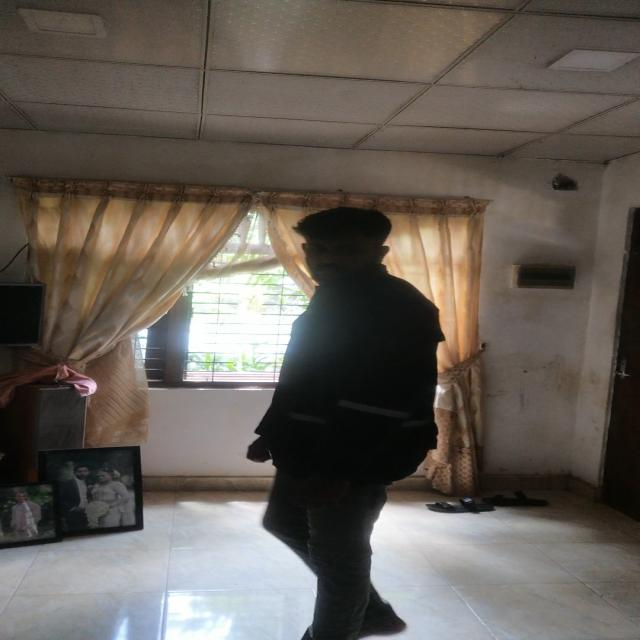Jacket_Wearer: (258, 272, 461, 492)
Person: (252, 201, 449, 640)
